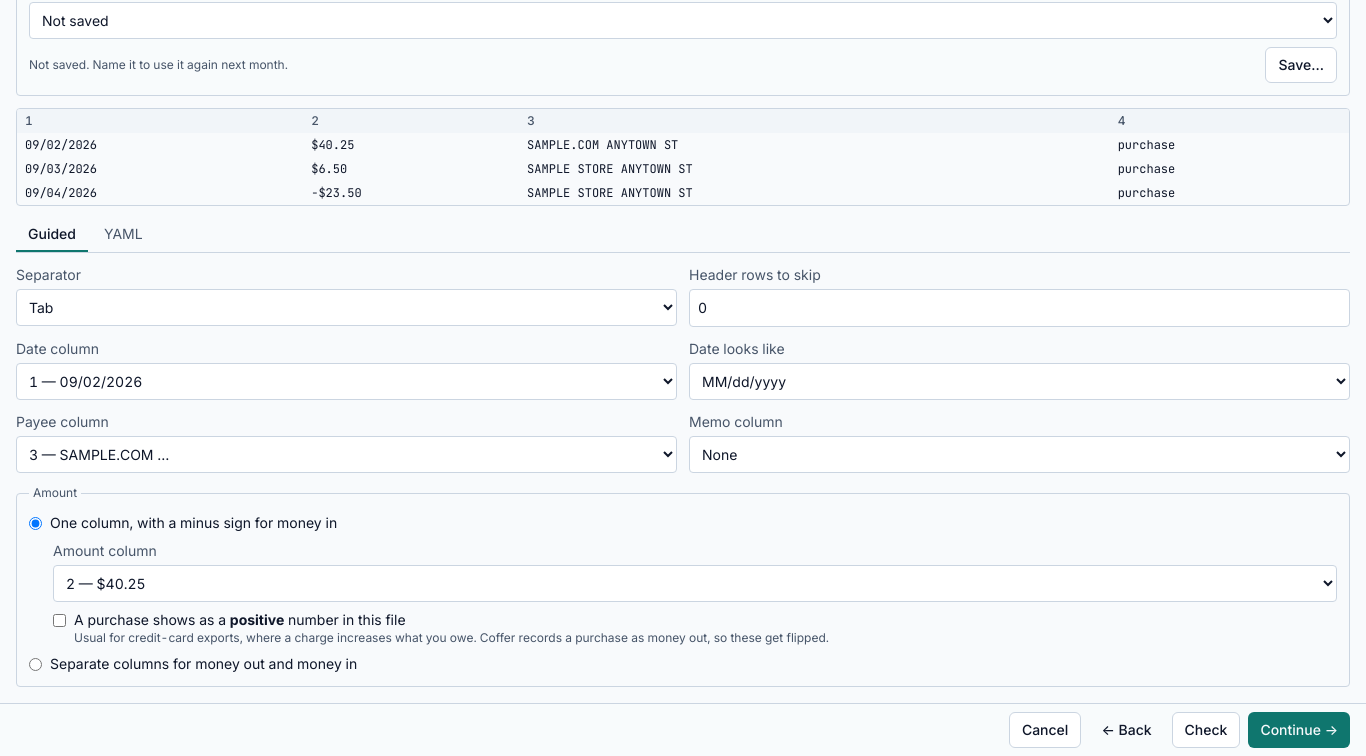
Test case: CsvMappingStep › names every problem at once, with its key and line
(page scrolled)
Click the button "Check" at (1206,730), box [1172,712,1240,748]
(page scrolled)
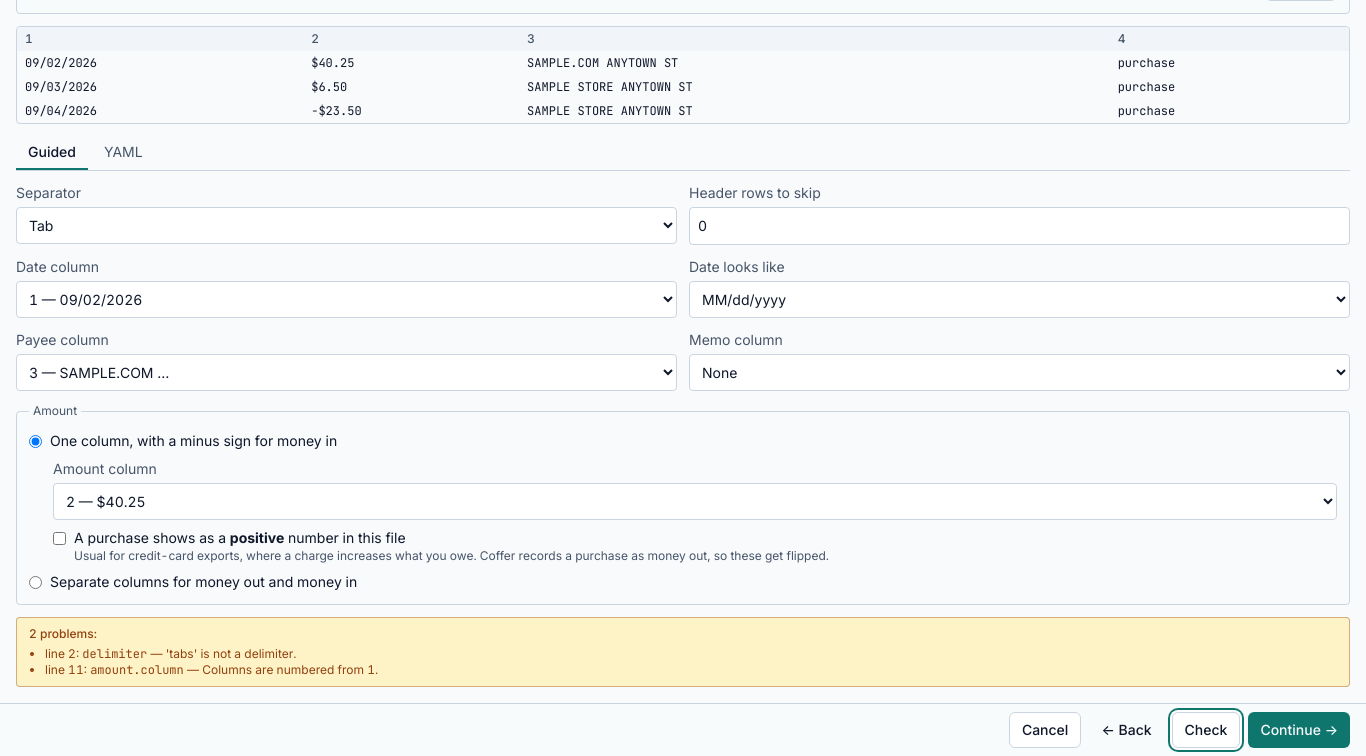
Now the message shows "2 problems", box [16,617,1350,687]
Now the message shows "line 2", box [45,646,82,661]
Now the message shows "amount.column", box [90,662,184,678]
